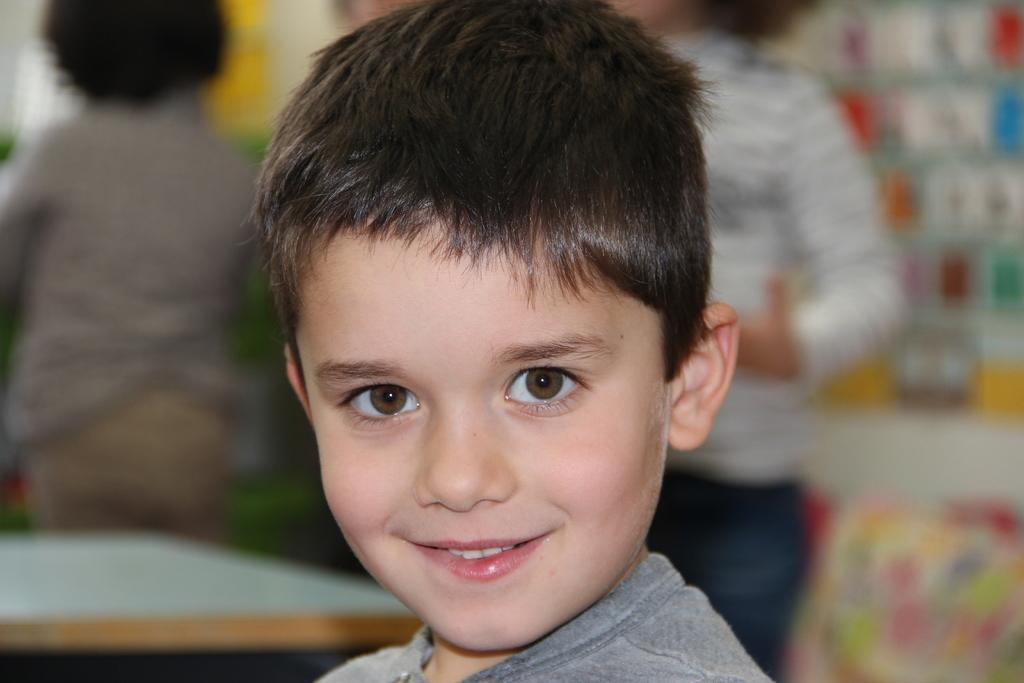Sem Máscara: (289, 202, 678, 654)
